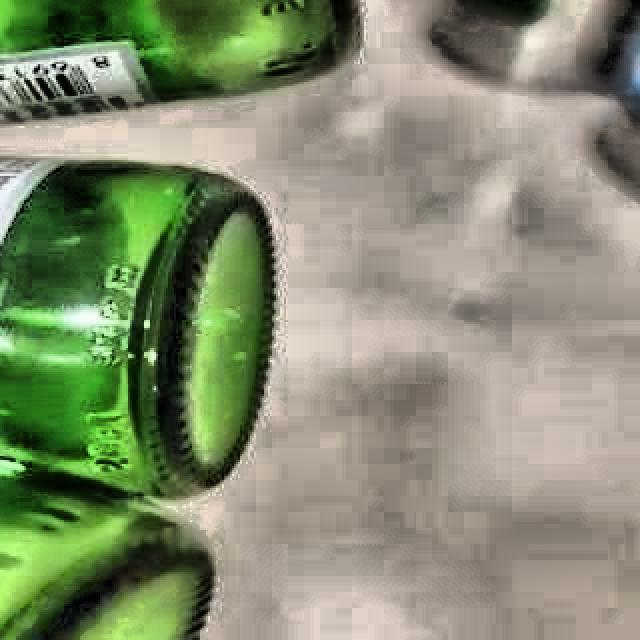glass: (0, 160, 272, 640)
